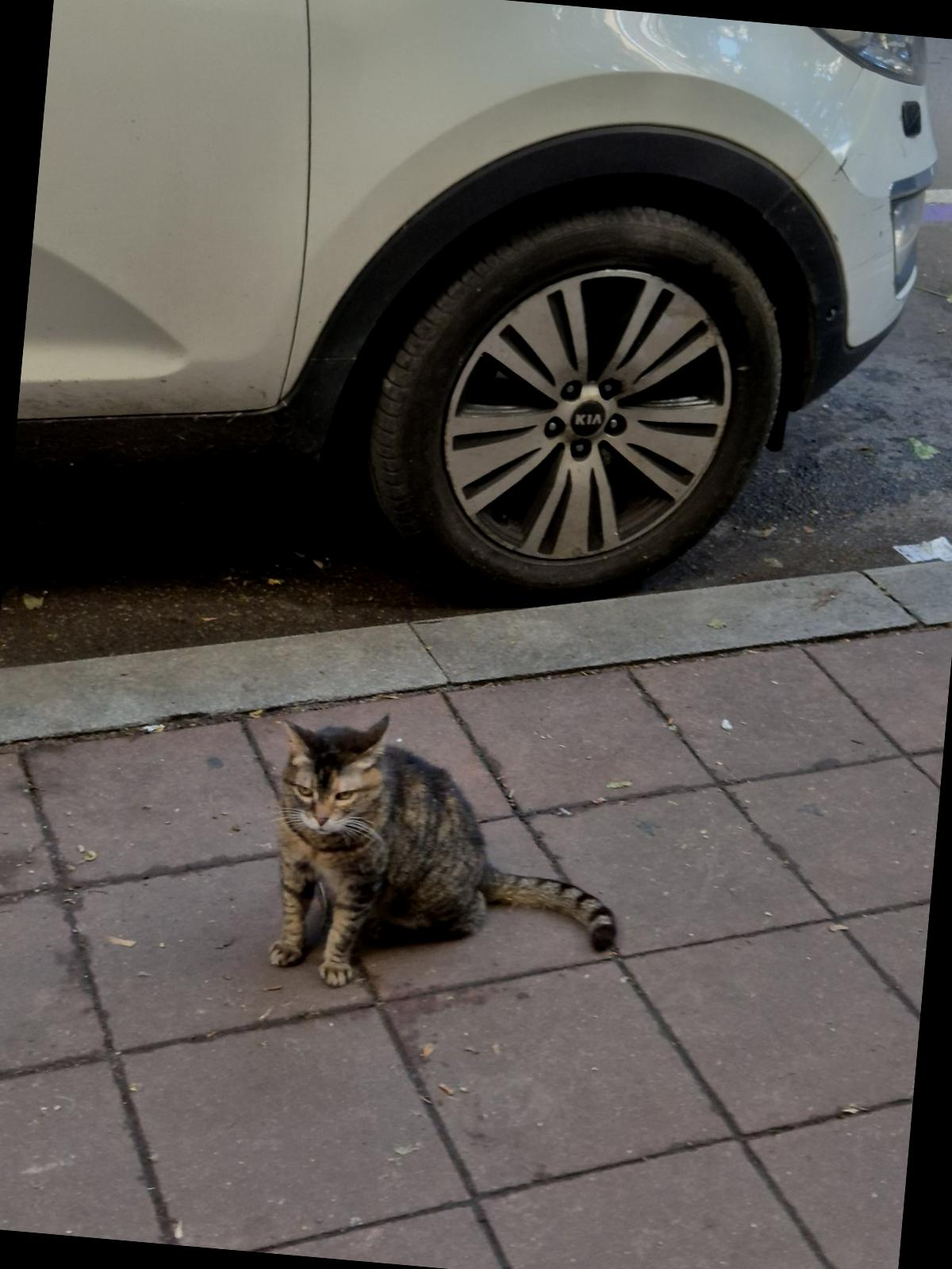macka: (259, 701, 634, 1013)
